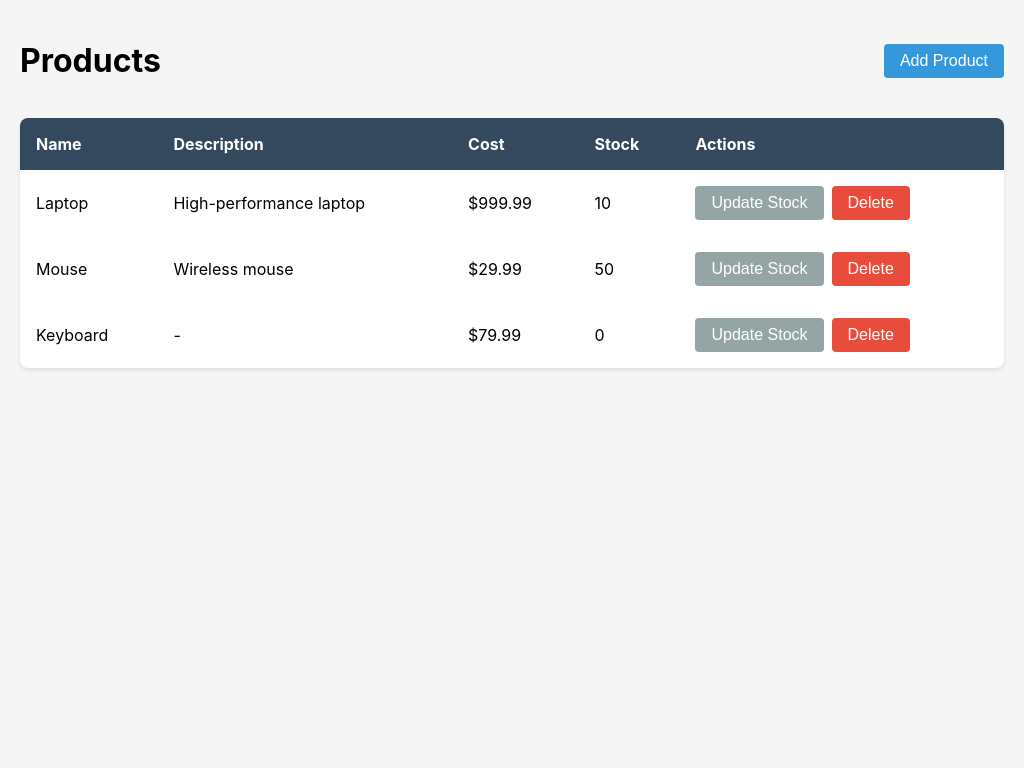
Test: Products Component › should open modal when "Add Product" button is clicked
The width and height of the screenshot is (1024, 768).
Click the button "Add Product": (944, 61) top-left (884, 44), bottom-right (1004, 78)
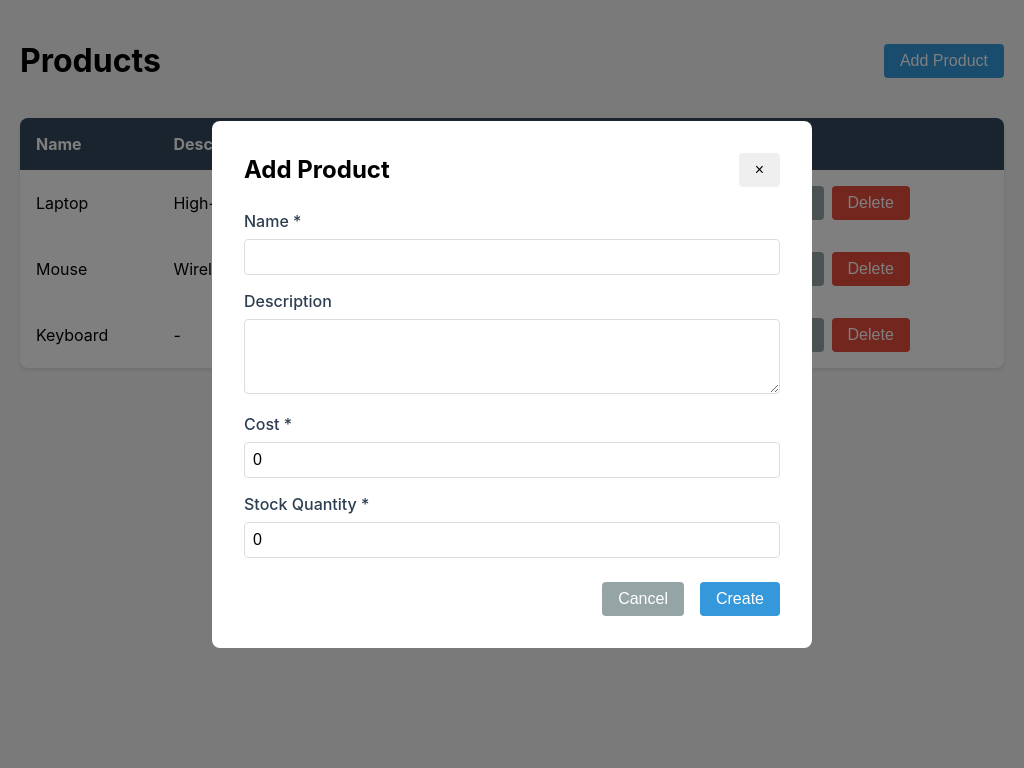
expect the heading "Add Product" is shown: met, box top-left (244, 155), bottom-right (390, 184)
